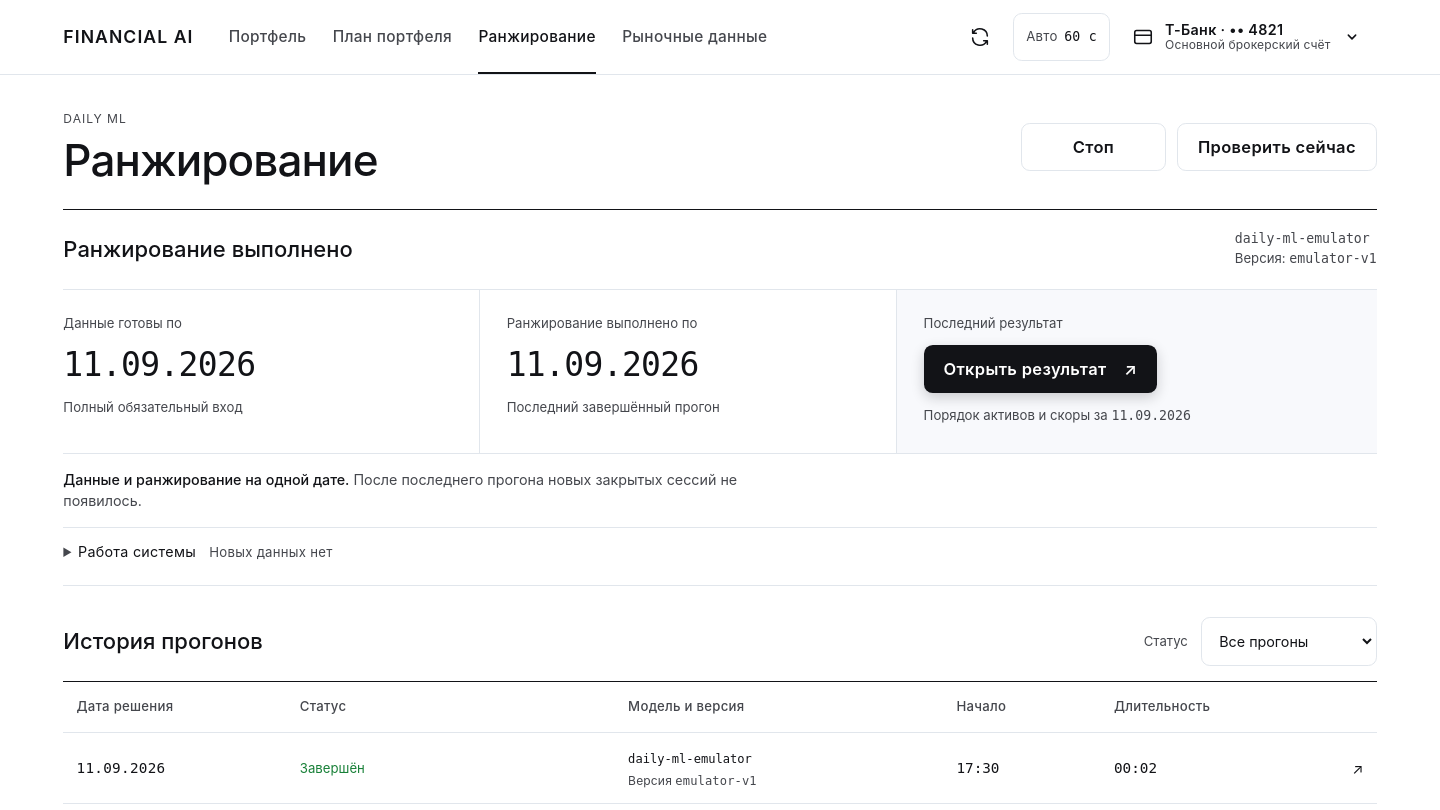
Test: управление › «проверить новые данные» не читается как принудительный пересчёт
expect the heading "Ранжирование выполнено" is shown: met, box x1=63 y1=236 x2=353 y2=262
Click the button "Проверить сейчас": (1277, 147) x1=1177 y1=123 x2=1377 y2=171
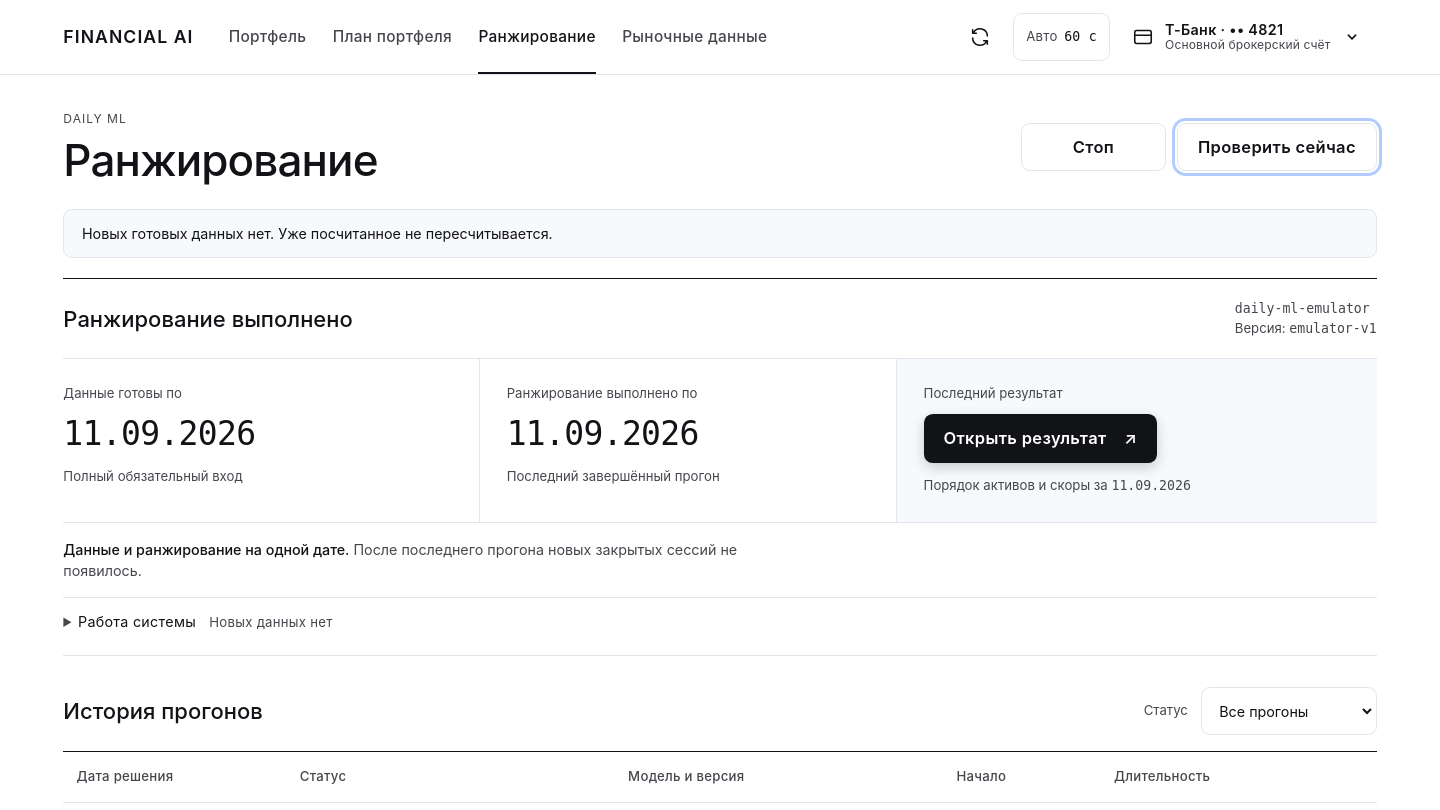
expect the text "Новых готовых данных нет. Уже посчитанное не пересчитывается." is shown: met, box x1=63 y1=209 x2=1377 y2=258
